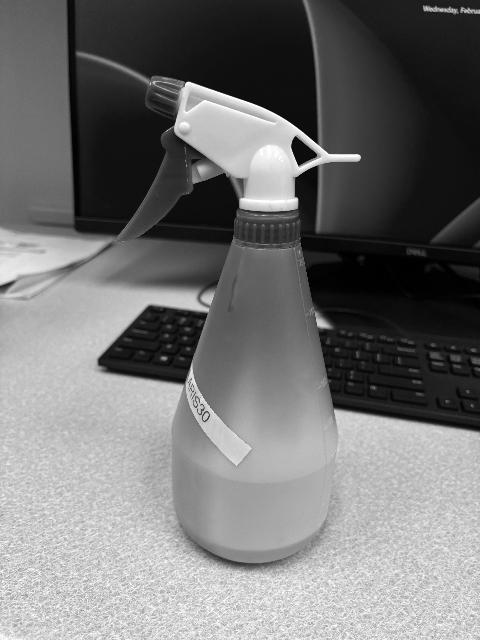AlcoholSpray: (114, 79, 360, 570)
